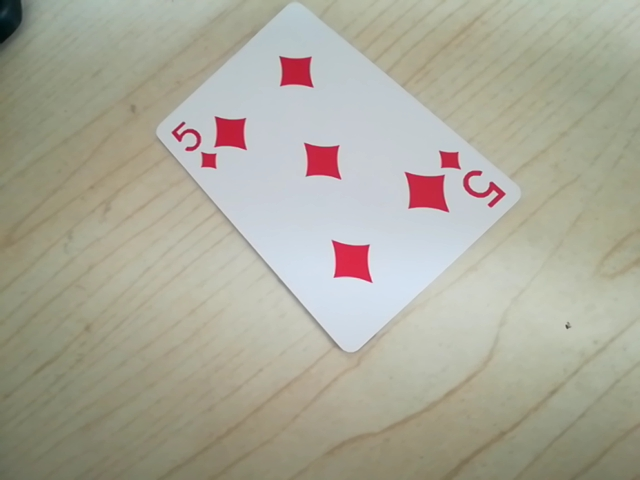fk 5: (440, 146, 510, 209), (166, 122, 222, 170)
